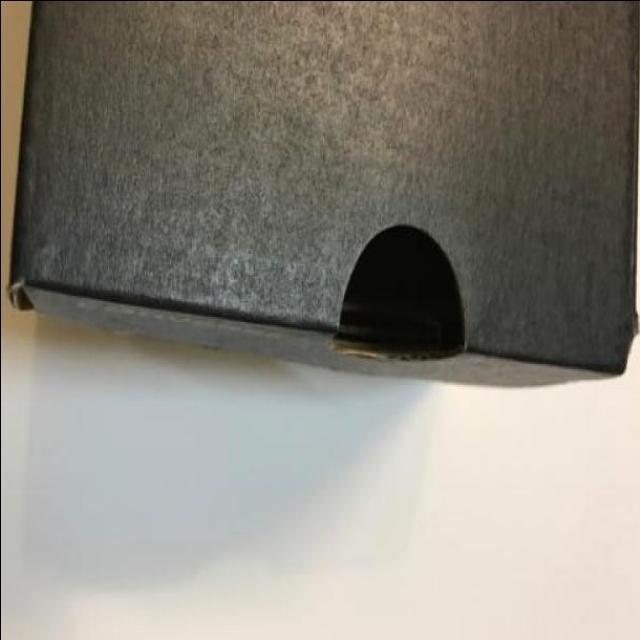cardboard paper: (10, 0, 639, 387)
